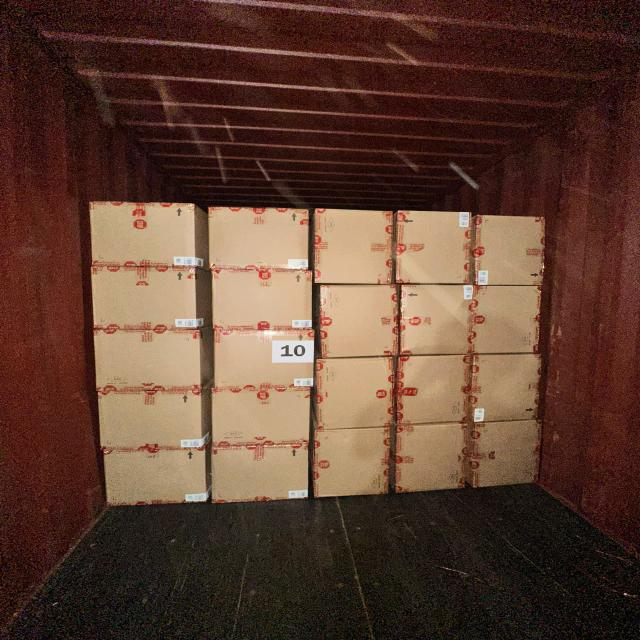Carton: (90, 264, 205, 331), (88, 200, 201, 268), (94, 328, 204, 394), (96, 389, 205, 453), (212, 270, 316, 334), (209, 210, 312, 274), (213, 328, 318, 390), (100, 448, 208, 508), (314, 208, 394, 286), (318, 287, 400, 363), (211, 444, 312, 505), (208, 388, 310, 448), (316, 356, 396, 431), (313, 427, 393, 501), (391, 423, 473, 495), (397, 210, 474, 286), (468, 419, 545, 490), (399, 287, 473, 360), (396, 352, 470, 424), (468, 353, 544, 423), (474, 218, 544, 290), (472, 284, 542, 355)
